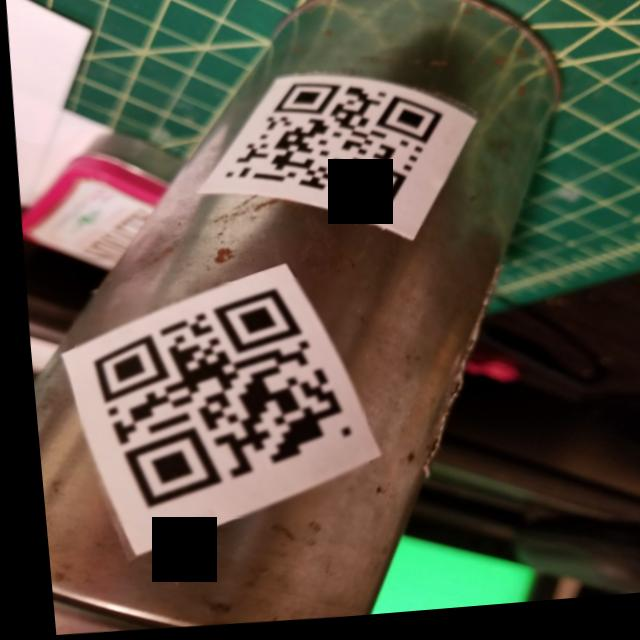QR_CODE: (61, 274, 366, 533), (206, 67, 462, 245)
